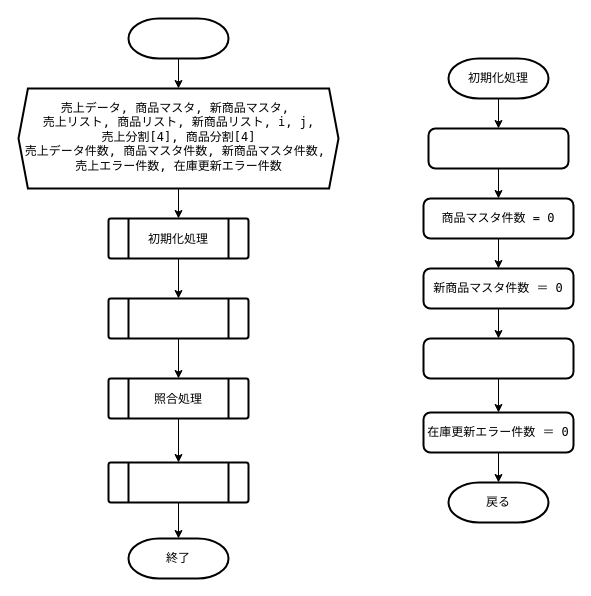
Image size: 591x596. Some labels were removed from this diagram. Here are the shapes that lost their labels. From the top down, the centre of each, then its label:
At point 178,38: "開始".
At point 498,148: "売上データ件数 = 0".
At point 178,318: "外部ファイル 読込処理".
At point 498,358: "売上エラー件数 ＝ 0".
At point 178,482: "終了処理".
